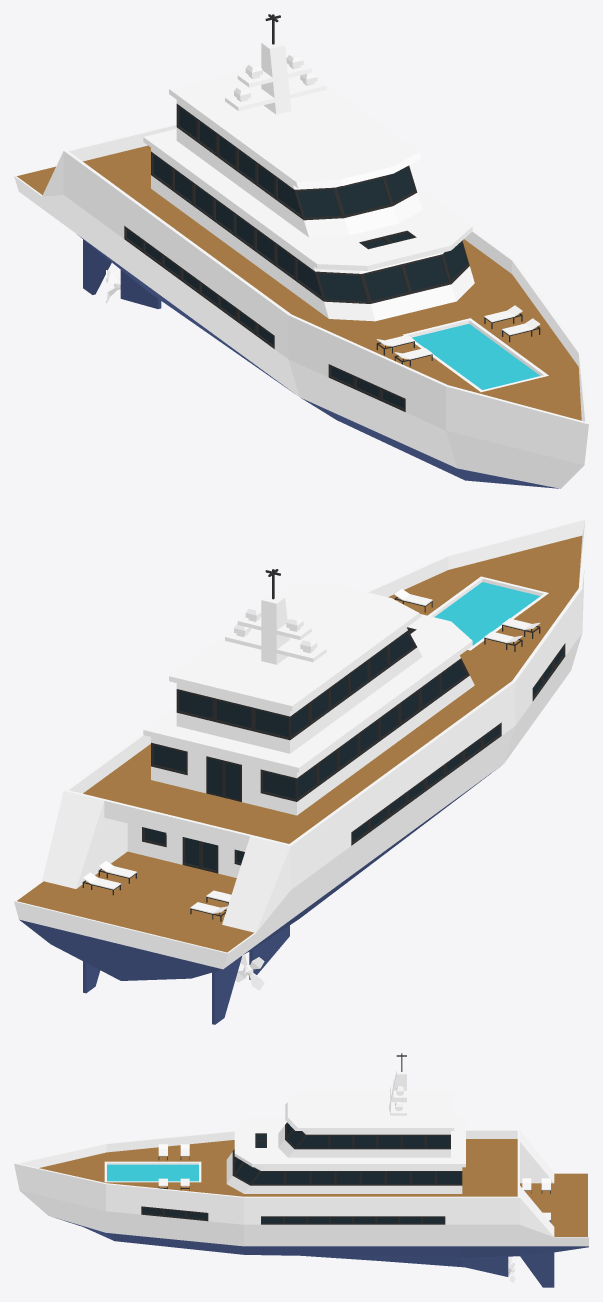
The model's file is ship-yacht.glb.
3 renders of one model, top to bottom at view 1: azimuth 30°, elevation 25°; view 2: azimuth 150°, elevation 25°; view 3: azimuth 270°, elevation 25°, orthographic. The views are drawn at different scales.
Visible parts, largest first — view 1: ship-yacht; view 2: ship-yacht; view 3: ship-yacht.
Part boxes in pixels (x1,y1,x2,y2): ship-yacht: [14, 14, 588, 488]; ship-yacht: [14, 517, 588, 1024]; ship-yacht: [14, 1053, 588, 1287].
Bounding box in the file's own units: 14 × 20.52 × 49.99.
Materials: 1 (1 with a texture image).
